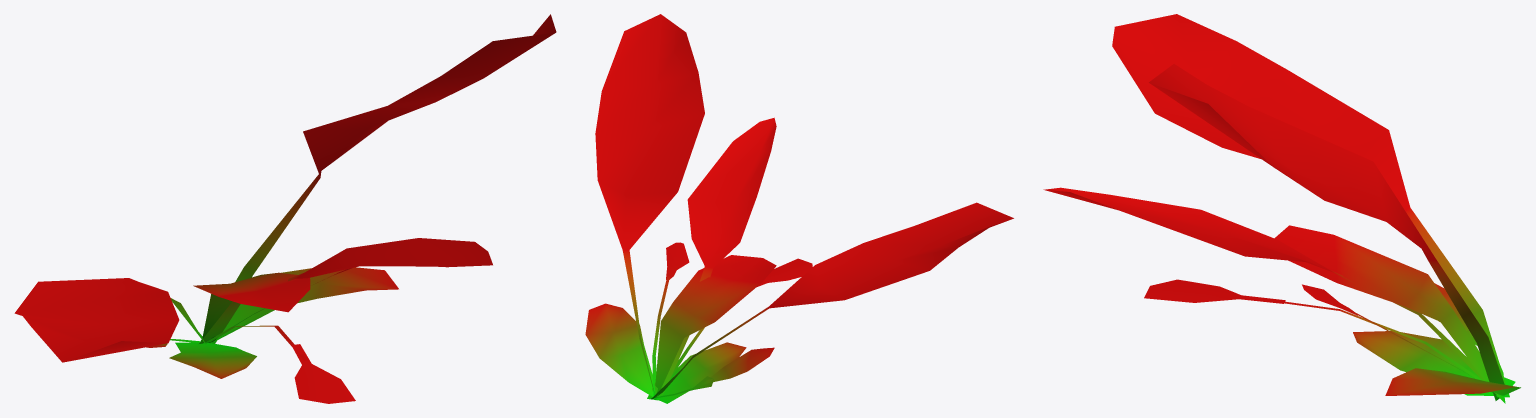
Rendered from Var18_LOD2.fbx.
3 renders of one model, left to right at view 1: azimuth 30°, elevation 25°; view 2: azimuth 150°, elevation 25°; view 3: azimuth 270°, elevation 25°, orthographic. The views are drawn at different scales.
Visible parts, largest first — view 1: _16yc_Var18_LOD2; view 2: _16yc_Var18_LOD2; view 3: _16yc_Var18_LOD2.
Boxes of the visible parts, x1,y1,x2,y2 form: _16yc_Var18_LOD2: (14,14,556,403); _16yc_Var18_LOD2: (585,14,1013,403); _16yc_Var18_LOD2: (1043,14,1520,403).
Bounding box in the file's own units: 25.78 × 18.64 × 20.2.
